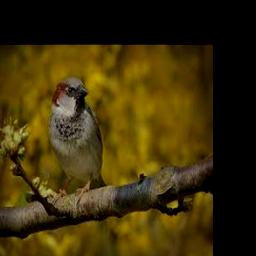Sparrow: (49, 76, 107, 196)
